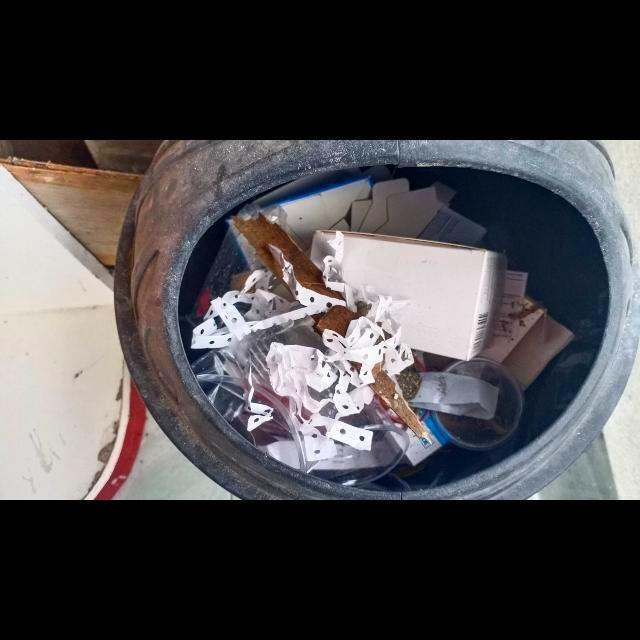cardboard: (311, 231, 507, 361)
